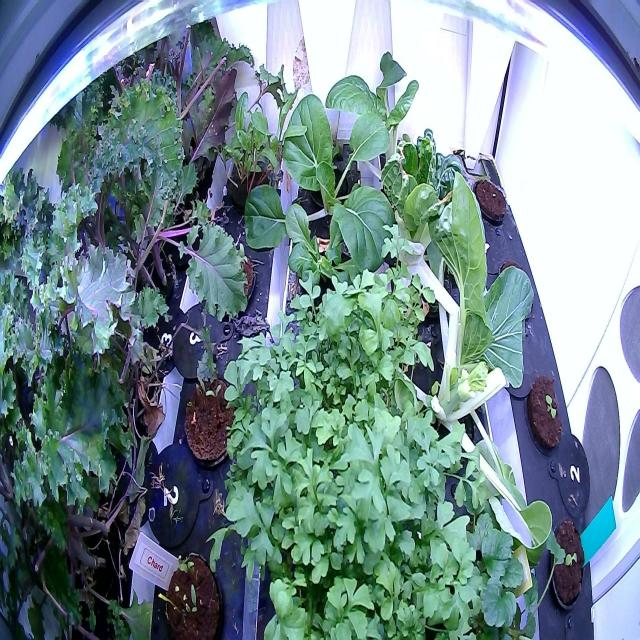germination: (150, 536, 230, 636), (179, 361, 244, 473), (544, 512, 588, 614), (523, 370, 567, 462)
pod: (468, 170, 513, 228)
